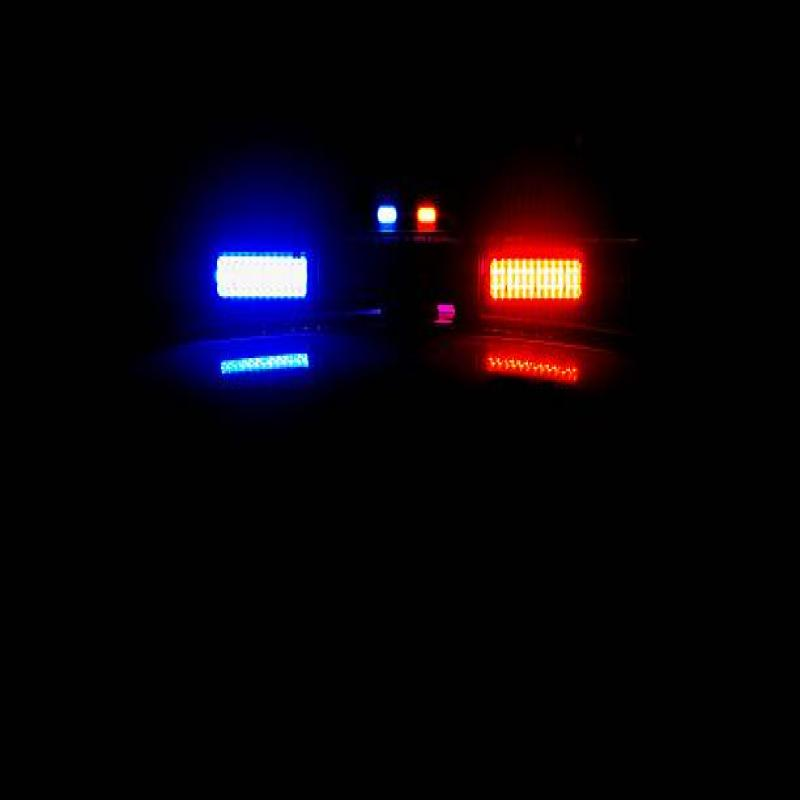AmbulanceSiren: (194, 173, 611, 343)
